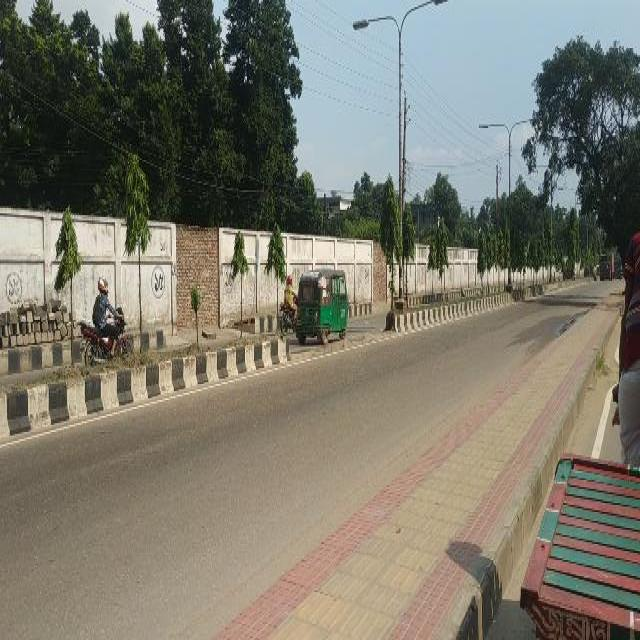bike: (81, 308, 134, 359), (280, 297, 297, 334)
vehicle: (520, 450, 639, 640), (296, 268, 348, 342), (600, 254, 615, 279)
